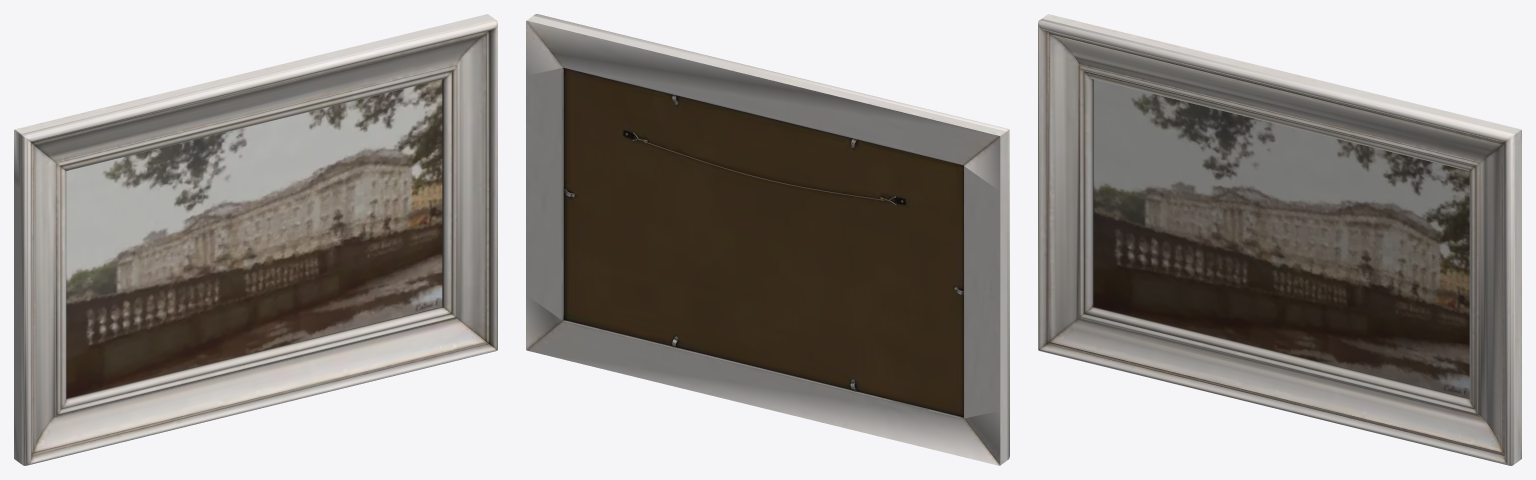
File: wall-art-balanced-5b5f0336e9.glb
3 views of the same model, side by side, from view 1: azimuth 30°, elevation 25°; view 2: azimuth 150°, elevation 25°; view 3: azimuth 330°, elevation 25° (orthographic).
Parts seen in each view (by area): view 1: hanging_picture_frame_02; view 2: hanging_picture_frame_02; view 3: hanging_picture_frame_02.
Boxes of the visible parts, box(x1,y1,x2,y2) form: hanging_picture_frame_02: box(14, 14, 497, 465); hanging_picture_frame_02: box(526, 14, 1009, 465); hanging_picture_frame_02: box(1038, 14, 1521, 465).
Size of the model in its own units: 0.7518 by 0.5 by 0.033.
Materials: 3 (2 with a texture image).
